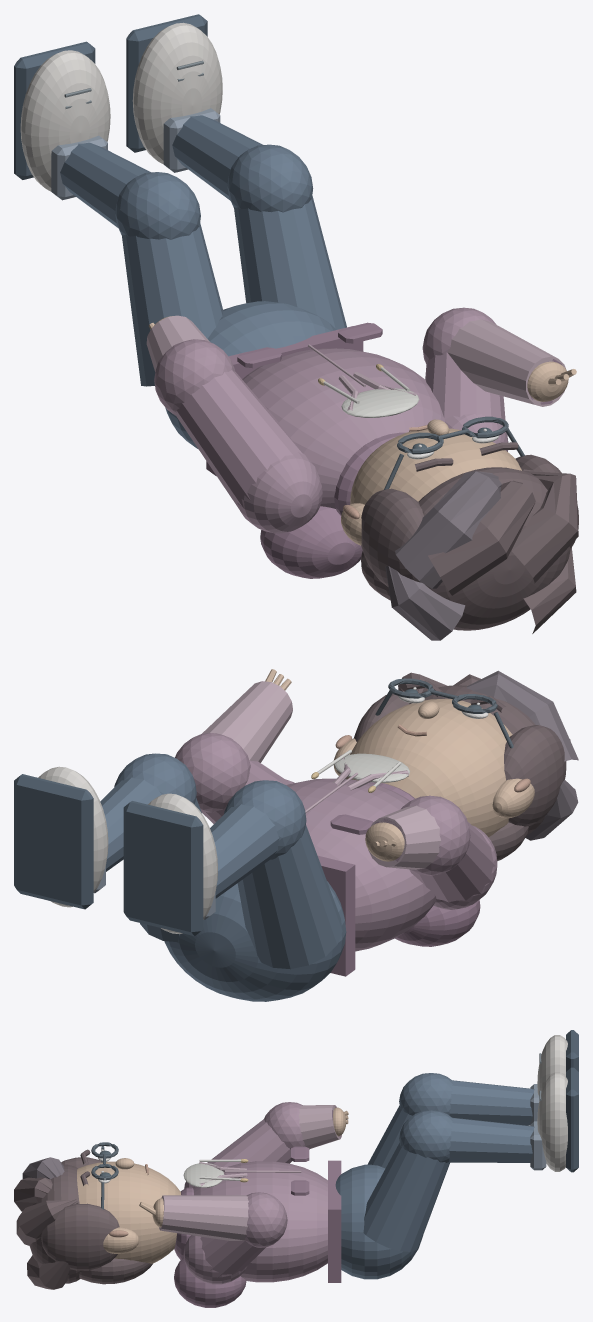
Rendered from designer_alert_0.glb.
3 views of the same model, one above another, from view 1: azimuth 30°, elevation 25°; view 2: azimuth 150°, elevation 25°; view 3: azimuth 270°, elevation 25° (orthographic). The views are drawn at different scales.
Parts seen in each view (by area): view 1: 0000__hoodie_main_torso, 0065__jeans_thigh, 0046__jeans_thigh, 0057__sleeve_upper, 0050__sneaker, 0069__sneaker, 0022__hair_crown, 0017__face_head, 0026__hair_lock_0, 0078__sleeve_forearm, 0027__hair_lock_1, 0014__pants_pelvis (+22 smaller); view 2: 0017__face_head, 0000__hoodie_main_torso, 0051__rubber_sole, 0046__jeans_thigh, 0070__rubber_sole, 0014__pants_pelvis, 0024__temple_side, 0048__jeans_shin, 0077__elbow_fold, 0078__sleeve_forearm, 0047__knee_fold, 0057__sleeve_upper (+21 smaller); view 3: 0000__hoodie_main_torso, 0065__jeans_thigh, 0017__face_head, 0014__pants_pelvis, 0025__temple_side, 0078__sleeve_forearm, 0067__jeans_shin, 0048__jeans_shin, 0069__sneaker, 0066__knee_fold, 0057__sleeve_upper, 0077__elbow_fold (+21 smaller).
Part boxes in pixels (<box>): 0000__hoodie_main_torso: <box>242,348,444,508</box>; 0065__jeans_thigh: <box>234,196,346,329</box>; 0046__jeans_thigh: <box>121,222,223,386</box>; 0057__sleeve_upper: <box>176,370,303,509</box>; 0050__sneaker: <box>20,50,110,191</box>; 0069__sneaker: <box>132,22,222,164</box>; 0022__hair_crown: <box>418,467,570,630</box>; 0017__face_head: <box>350,428,521,504</box>; 0026__hair_lock_0: <box>395,471,501,588</box>; 0078__sleeve_forearm: <box>447,319,566,406</box>; 0027__hair_lock_1: <box>428,480,535,595</box>; 0014__pants_pelvis: <box>165,301,336,448</box>; 0017__face_head: <box>346,698,512,837</box>; 0000__hoodie_main_torso: <box>286,778,436,951</box>; 0051__rubber_sole: <box>123,801,203,936</box>; 0046__jeans_thigh: <box>237,825,342,969</box>; 0070__rubber_sole: <box>14,774,93,909</box>; 0014__pants_pelvis: <box>164,881,346,1001</box>; 0024__temple_side: <box>504,725,566,826</box>; 0048__jeans_shin: <box>210,804,279,898</box>; 0077__elbow_fold: <box>175,733,250,812</box>; 0078__sleeve_forearm: <box>202,681,292,762</box>; 0047__knee_fold: <box>224,780,306,859</box>; 0057__sleeve_upper: <box>409,822,495,902</box>; 0000__hoodie_main_torso: <box>193,1161,327,1282</box>; 0065__jeans_thigh: <box>363,1143,449,1251</box>; 0017__face_head: <box>77,1161,180,1263</box>; 0014__pants_pelvis: <box>335,1164,422,1279</box>; 0025__temple_side: <box>41,1203,119,1270</box>; 0078__sleeve_forearm: <box>159,1195,248,1240</box>; 0067__jeans_shin: <box>448,1117,534,1162</box>; 0048__jeans_shin: <box>449,1080,534,1125</box>; 0069__sneaker: <box>537,1072,567,1171</box>; 0066__knee_fold: <box>399,1110,452,1162</box>; 0057__sleeve_upper: <box>207,1119,291,1167</box>; 0077__elbow_fold: <box>245,1192,287,1247</box>.
Size of the model in its own units: 0.82 by 0.8228 by 1.85.
